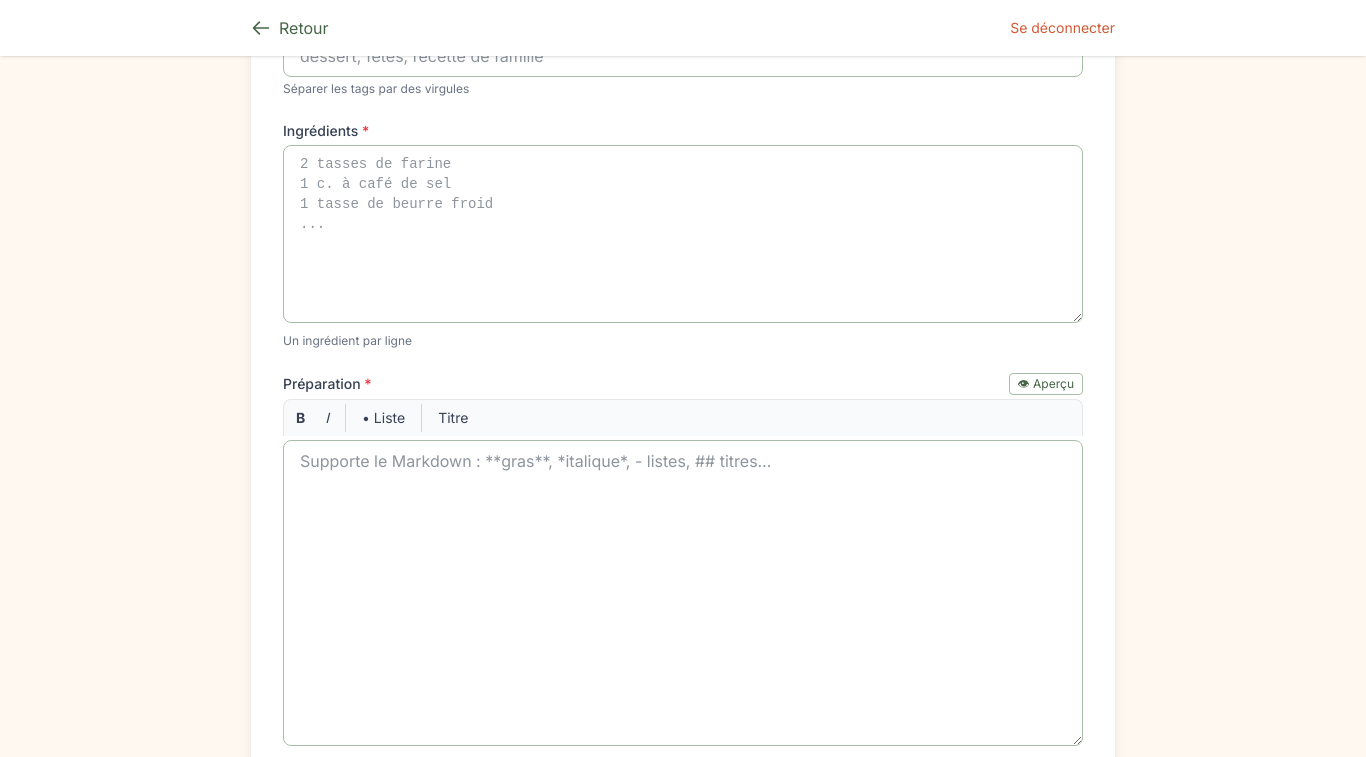
Admin — barre d'outils Markdown › bascule vers l'aperçu au clic sur Aperçu
(page scrolled)
Click the button "👁 Aperçu". click: coordinates (1046, 384)
box: [1009,373,1083,395]
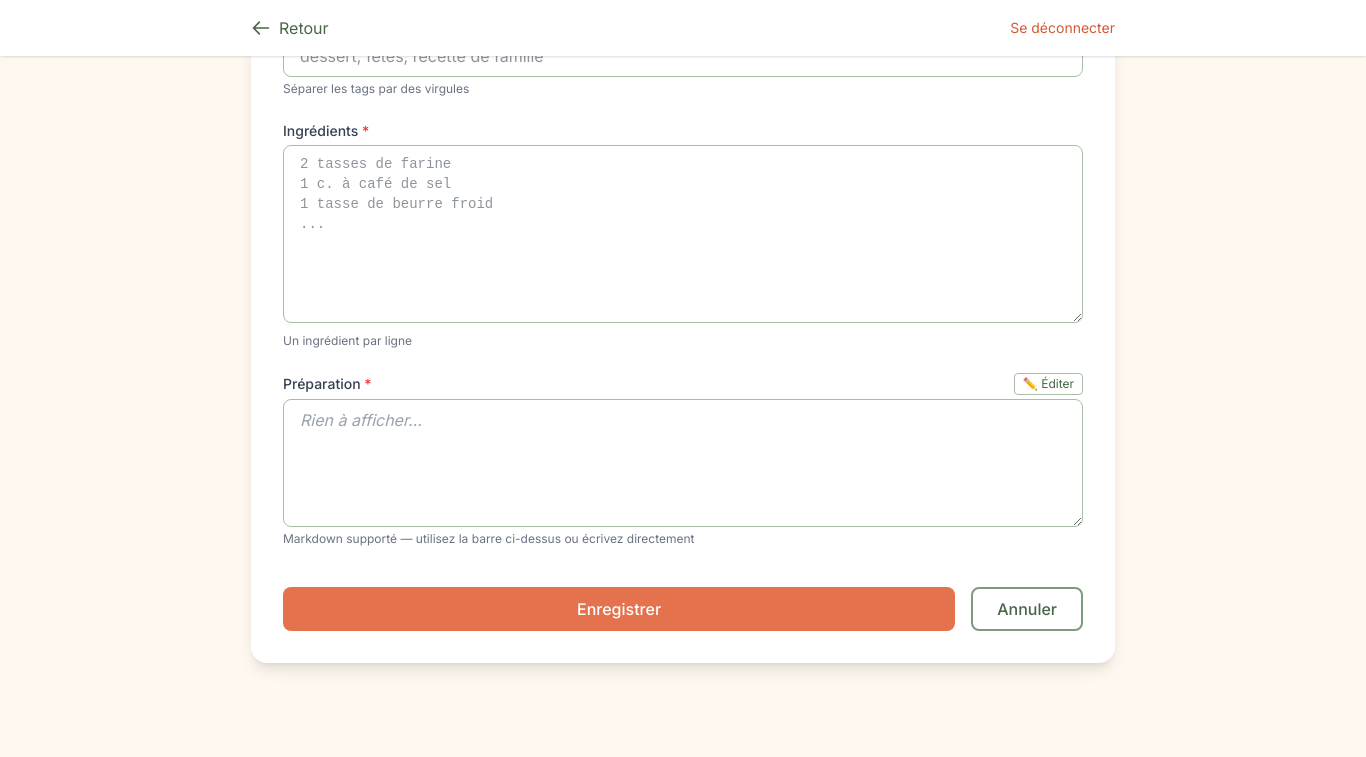
Now the button "✏️ Éditer" is shown, box [1014,373,1083,395]
